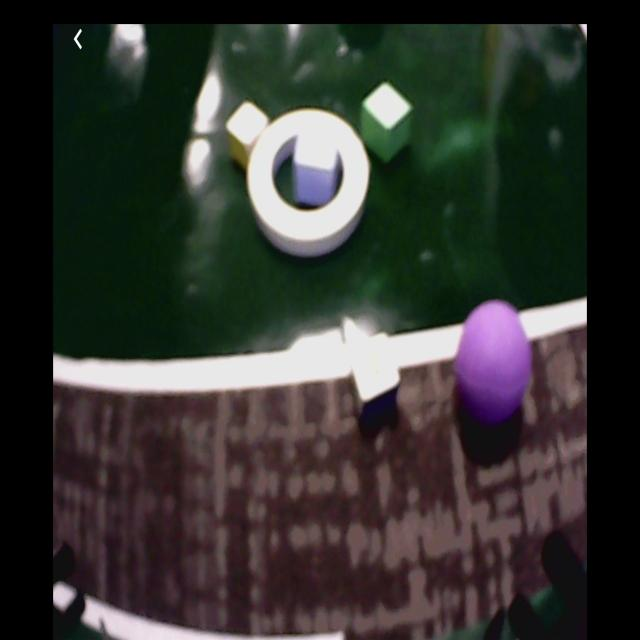ball: (457, 301, 531, 421)
